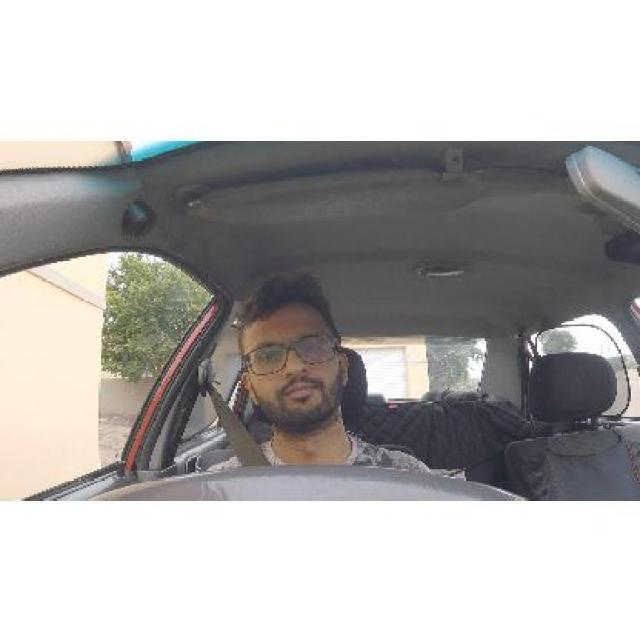person: (232, 308, 354, 426)
